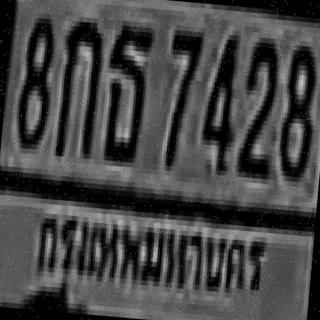A01: (54, 13, 103, 152)
A24: (100, 19, 153, 158)
N02: (235, 32, 278, 174)
N04: (198, 28, 239, 170)
N07: (161, 25, 202, 167)
N08: (275, 40, 318, 178), (14, 12, 54, 145)
P04: (25, 195, 276, 320)
